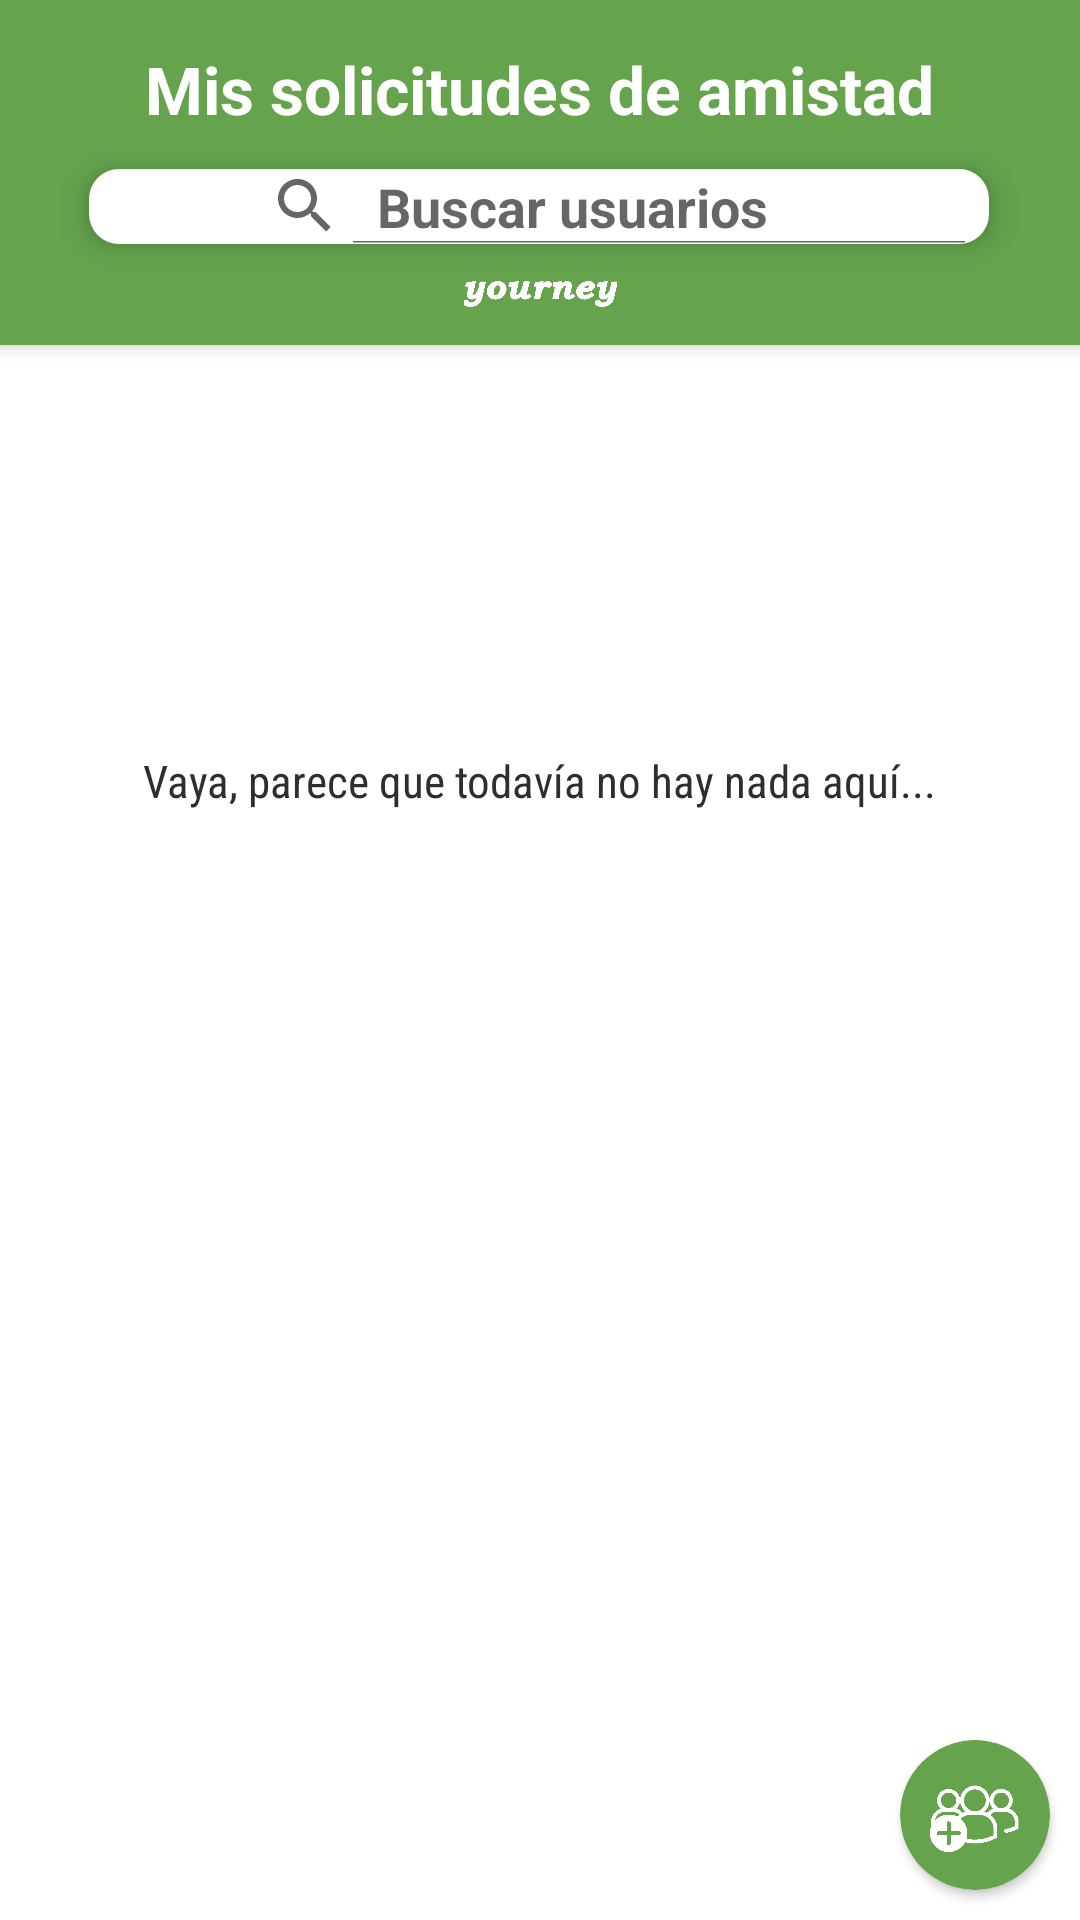

Icons on this 1080w x 1920h Android screen, each with its box as (x1, y1, x2, y2):
annadiramigo: (900, 1740, 1050, 1890)
